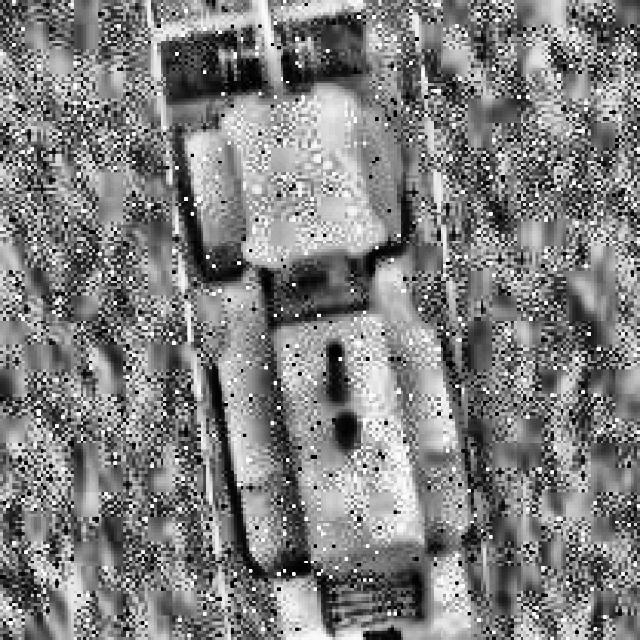buldozerpayloadergrader: (145, 0, 489, 640)
